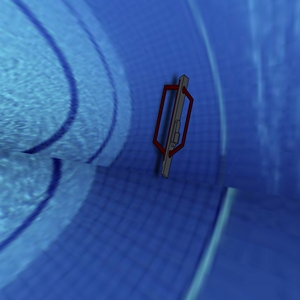submarine: (136, 61, 213, 185)
